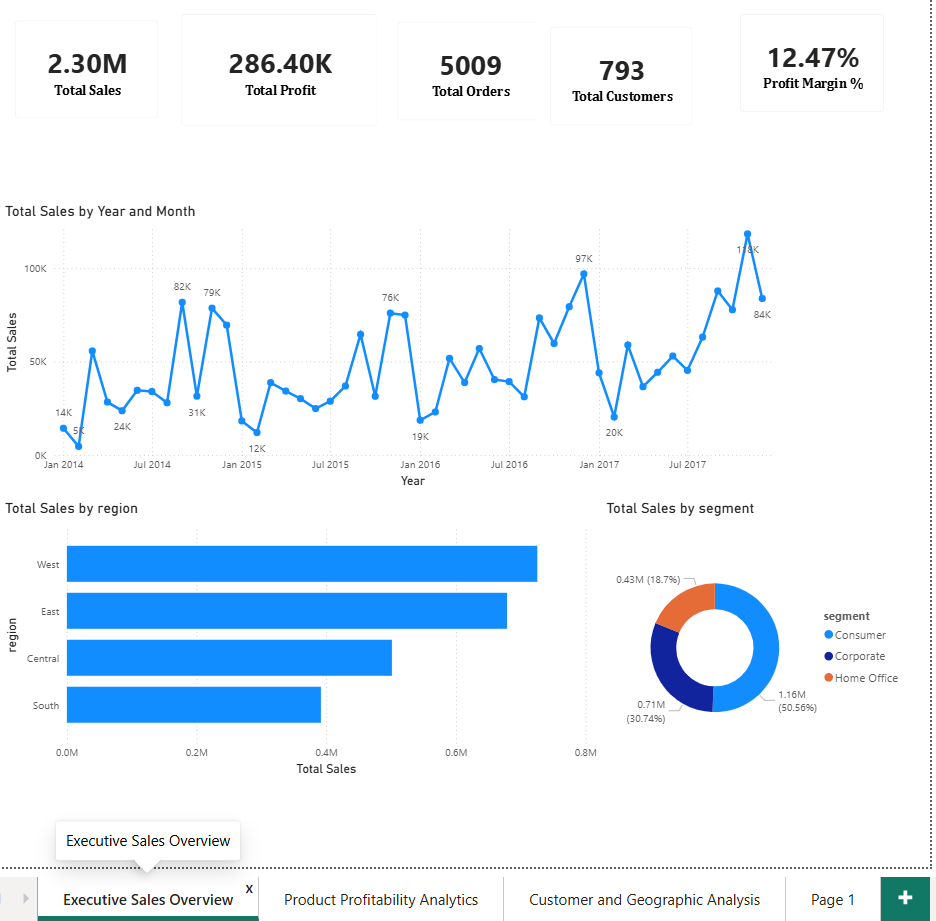

Layout of this report page (visuals, bound fields, positions):
{"tool":"powerbi","page":{"name":"Page 2","canvas":[1100,1075],"ordinal":0},"visuals":[{"type":"cardVisual","fields":{"Data":["public order_items.Total Sales"]},"box":[10.2,64.7,202.6,149.8],"z":0},{"type":"cardVisual","fields":{"Data":["public order_items.Total Profit"]},"box":[206.1,57.3,264.7,165.1],"z":1000},{"type":"cardVisual","fields":{"Data":["public orders.Total Orders"]},"box":[458.5,65.5,203.3,150.1],"z":2000},{"type":"cardVisual","fields":{"Data":["public customers.Total Customers"]},"box":[638.6,72.3,202,150.1],"z":2001},{"type":"cardVisual","fields":{"Data":["public order_items.Profit Margin %"]},"box":[861.1,57.2,203.9,149.6],"z":2002},{"type":"lineChart","fields":{"Category":["public orders.order_date.Variation.Date Hierarchy.Year","public orders.order_date.Variation.Date Hierarchy.Month"],"Y":["public order_items.Total Sales"]},"box":[10.2,294.5,920.9,340.4],"z":2003},{"type":"clusteredBarChart","fields":{"Category":["public orders.region"],"Y":["public order_items.Total Sales"]},"box":[10.3,644,705.6,328.6],"z":2004},{"type":"donutChart","fields":{"Category":["public customers.segment"],"Y":["public order_items.Total Sales"]},"box":[715.9,644,362.3,328.6],"z":2005}]}

Visuals, with their boxes on the page's 1100x1075 design canvas (x1, y1, x2, y2). These are canvas units, not pixel positions in the 936x921 screenshot, which may show the page scaled, cropped or inside an application window:
cardVisual - public order_items.Total Sales: crop(10, 65, 213, 214)
cardVisual - public order_items.Total Profit: crop(206, 57, 471, 222)
cardVisual - public orders.Total Orders: crop(458, 66, 662, 216)
cardVisual - public customers.Total Customers: crop(639, 72, 841, 222)
cardVisual - public order_items.Profit Margin %: crop(861, 57, 1065, 207)
lineChart - public orders.order_date.Variation.Date Hierarchy.Year x public orders.order_date.Variation.Date Hierarchy.Month: crop(10, 294, 931, 635)
clusteredBarChart - public orders.region x public order_items.Total Sales: crop(10, 644, 716, 973)
donutChart - public customers.segment x public order_items.Total Sales: crop(716, 644, 1078, 973)
